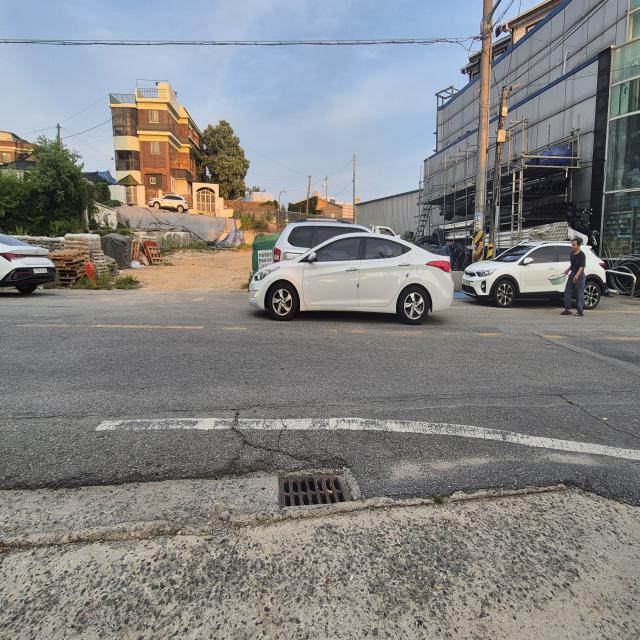car: (258, 222, 428, 325), (460, 238, 606, 309), (275, 216, 419, 269), (0, 222, 60, 303), (146, 194, 188, 212)
